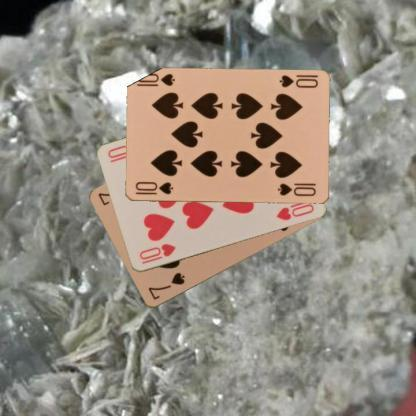10h: (136, 242, 177, 266)
10s: (132, 179, 174, 196), (276, 73, 319, 89)
7s: (145, 270, 186, 301)
